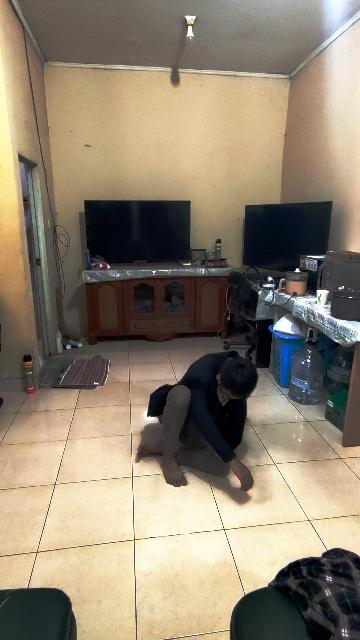jatuh: (140, 350, 256, 502)
